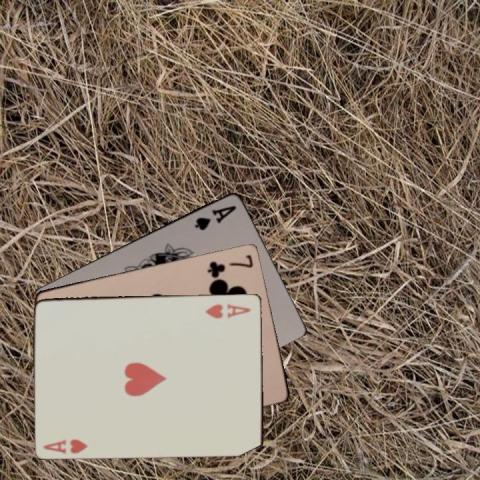7c: (205, 251, 255, 277)
Ah: (41, 435, 89, 455), (202, 300, 252, 319)
As: (191, 202, 238, 231)
